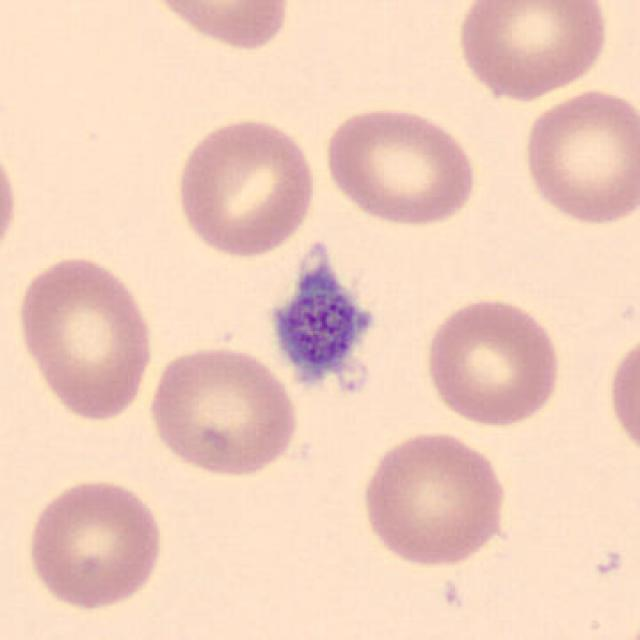Platelets: (263, 240, 386, 400)
RBC: (13, 250, 158, 425), (356, 426, 512, 570), (142, 342, 302, 481), (171, 113, 320, 261), (320, 102, 482, 228), (420, 293, 566, 430), (23, 474, 167, 612), (518, 85, 638, 229), (451, 0, 613, 102), (140, 0, 294, 53), (604, 326, 640, 466), (0, 130, 23, 270)
